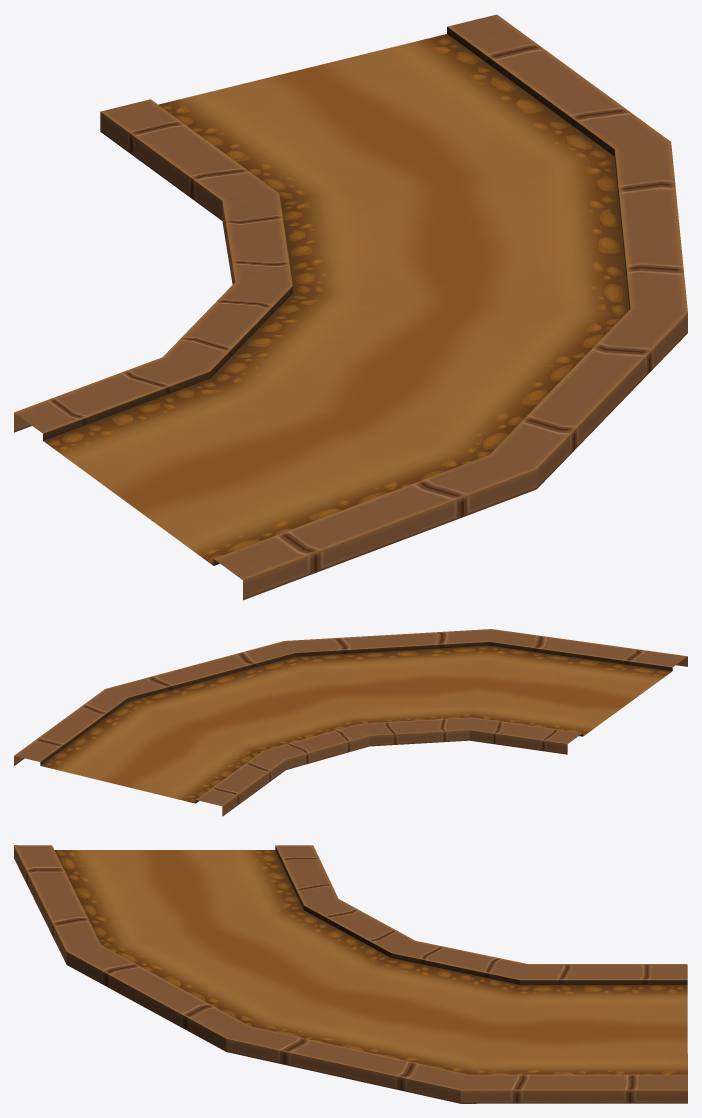
The model's file is Curve_Road_Piece_1.FBX.
3 renders of one model, top to bottom at view 1: azimuth 30°, elevation 25°; view 2: azimuth 150°, elevation 25°; view 3: azimuth 270°, elevation 25°, orthographic. The views are drawn at different scales.
Visible parts, largest first — view 1: Object349; view 2: Object349; view 3: Object349.
Part boxes in pixels (x1=…): Object349: x1=14, y1=14, x2=687, y2=600; Object349: x1=14, y1=629, x2=687, y2=816; Object349: x1=14, y1=845, x2=687, y2=1103.
Bounding box in the file's own units: 317 × 7.95 × 367.
